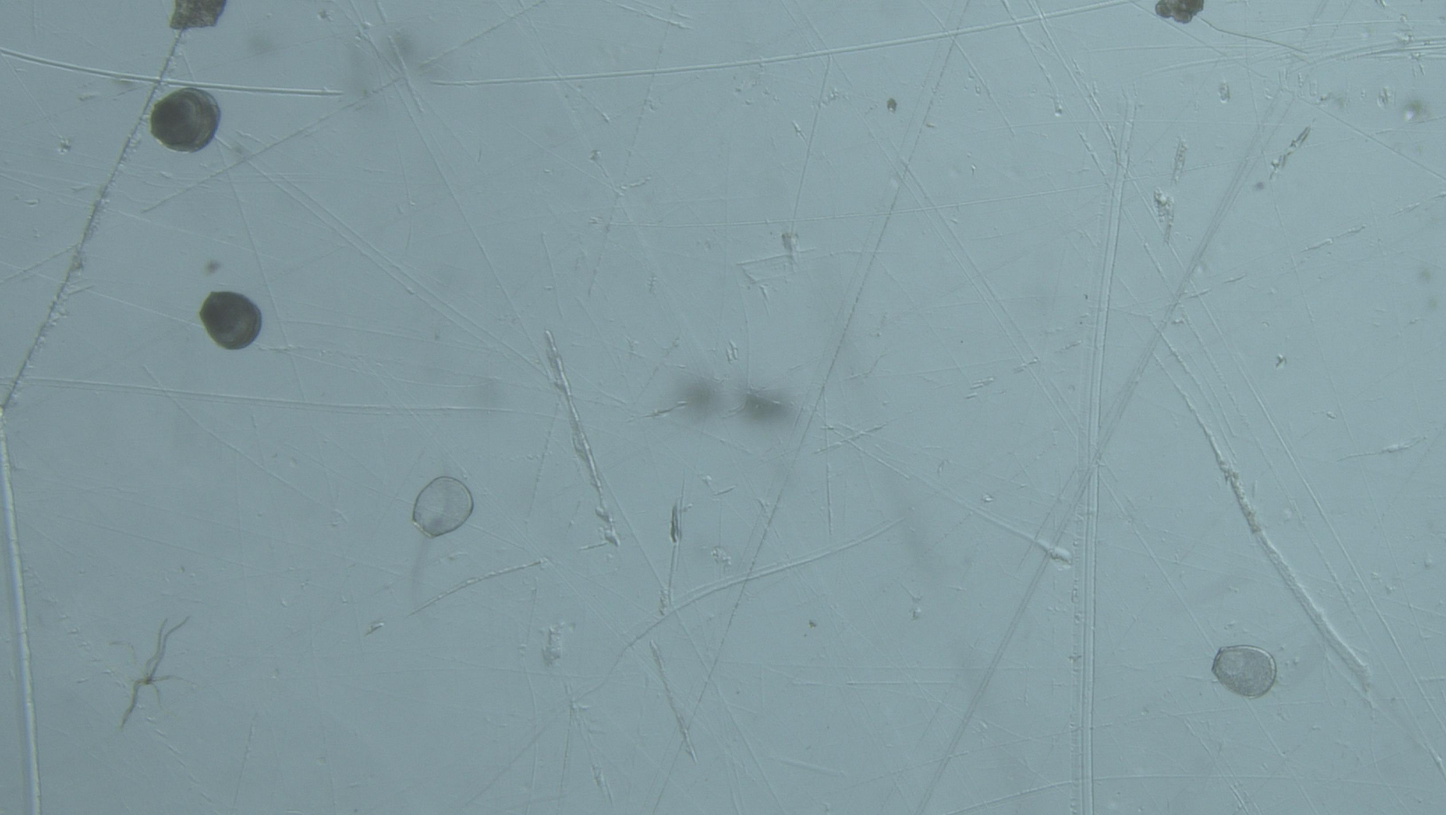dead: (411, 476, 474, 538), (1212, 645, 1278, 699)
live: (149, 87, 221, 153), (199, 292, 262, 350)
